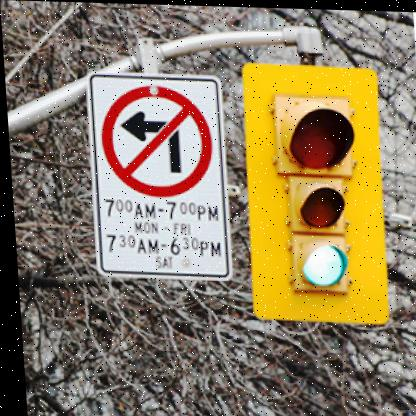No left turn: (90, 77, 212, 190)
